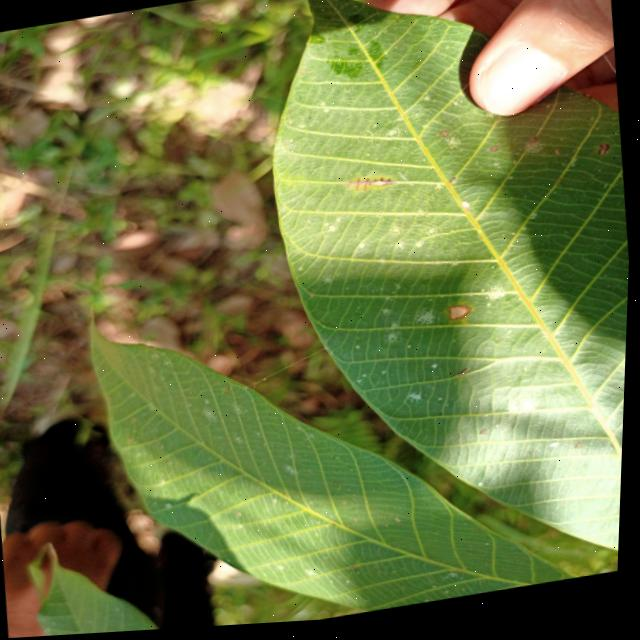Corynespora: (347, 176, 397, 198), (451, 311, 469, 327)
